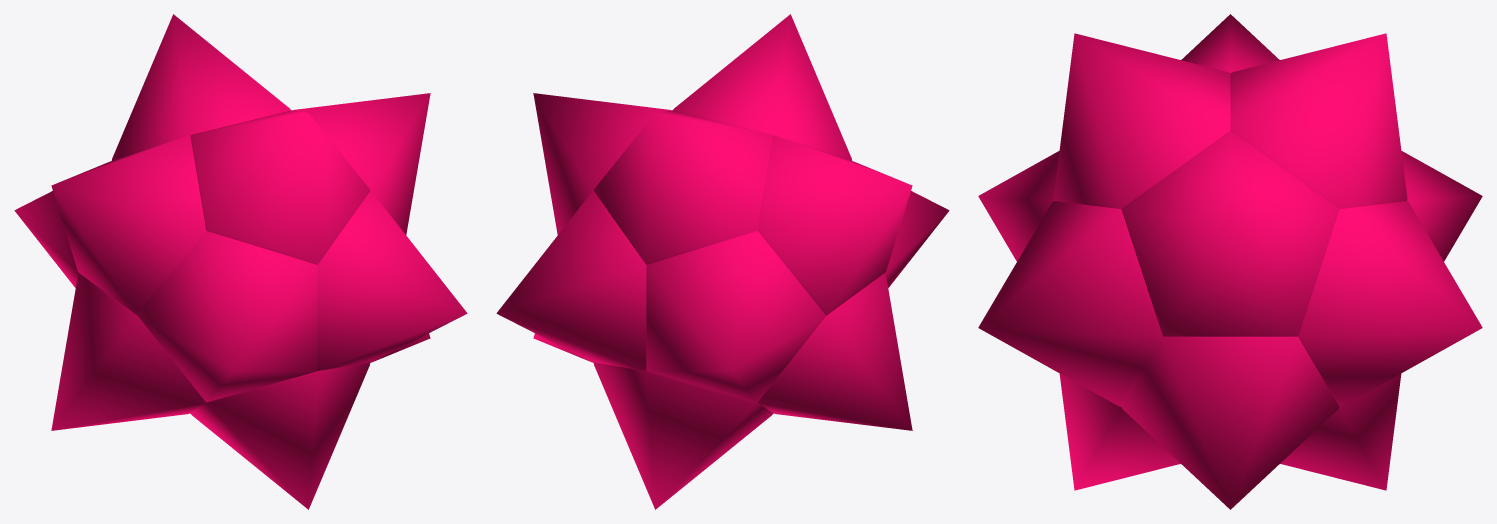
File: simplestardimple.fbx
3 renders of one model, left to right at view 1: azimuth 30°, elevation 25°; view 2: azimuth 150°, elevation 25°; view 3: azimuth 270°, elevation 25°, orthographic. The views are drawn at different scales.
Visible parts, largest first — view 1: Object_0; view 2: Object_0; view 3: Object_0.
Boxes of the visible parts, <box> form: Object_0: <box>14,14,467,509</box>; Object_0: <box>496,14,949,509</box>; Object_0: <box>978,14,1482,509</box>.
Bounding box in the file's own units: 1697 × 1697 × 1697.
